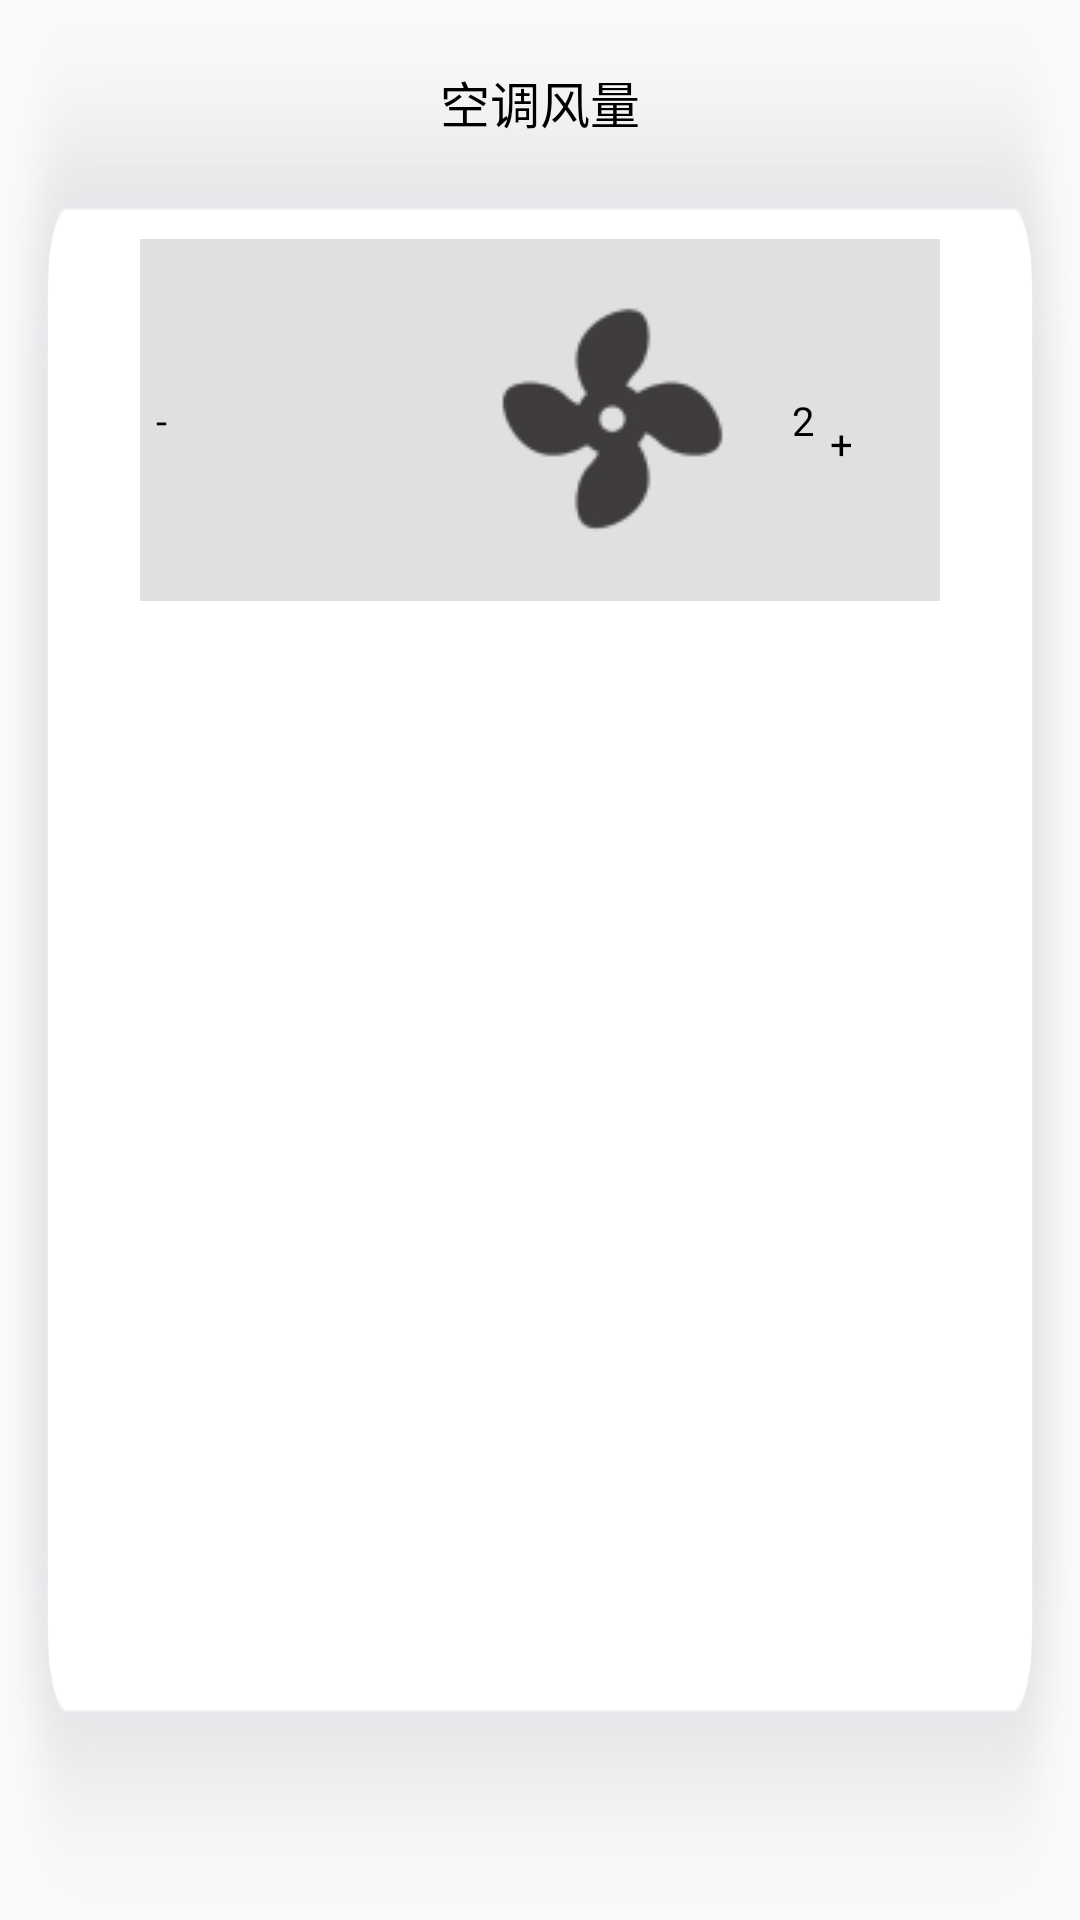

Screen size 1080x1920. Icon name, then its center in pixels as (x,y):
fengye: (612,418)
